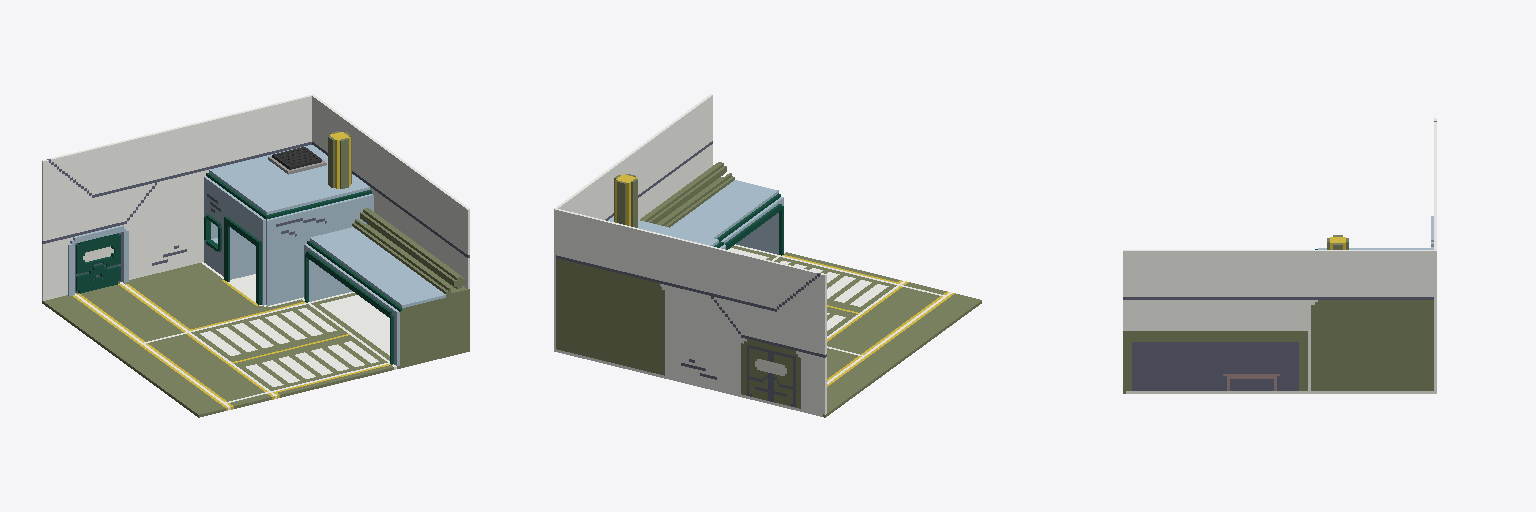
The picture shows the model from 3 angles: view 1: azimuth 30°, elevation 25°; view 2: azimuth 150°, elevation 25°; view 3: azimuth 270°, elevation 25°; orthographic projection.
Parts seen in each view (by area): view 1: test_level_hangar; view 2: test_level_hangar; view 3: test_level_hangar.
Part boxes in pixels (x1,y1,x2,y2): test_level_hangar: (42,94,469,417); test_level_hangar: (554,94,981,417); test_level_hangar: (1123,118,1436,393).
Bounding box in the file's own units: 100 × 50 × 100.
1 materials, 1 textured.